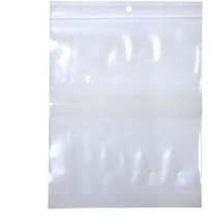plastic_bag: (42, 0, 207, 213)
